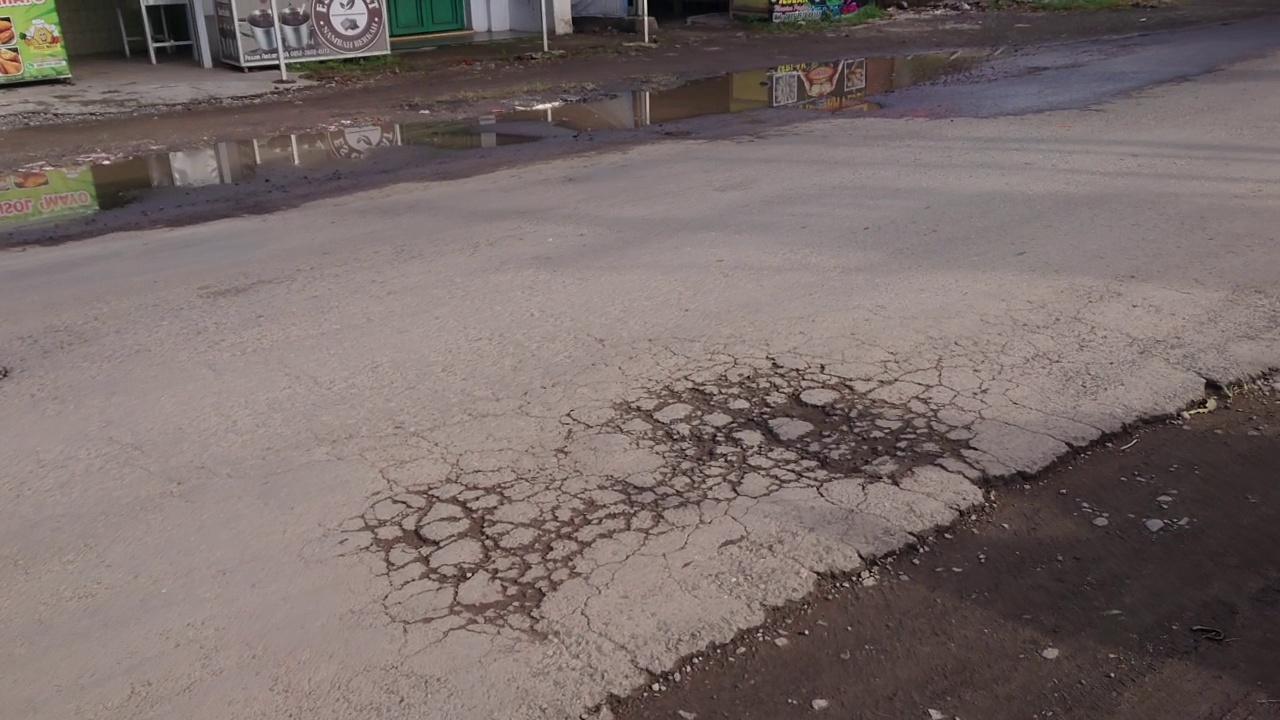Retak: (374, 385, 902, 625), (914, 282, 1215, 414)
